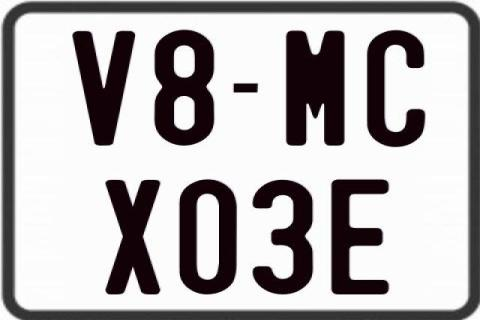0: (179, 178, 243, 298), (252, 180, 314, 299), (152, 27, 213, 145)
C: (368, 31, 431, 150)
E: (330, 179, 394, 297)
M: (284, 28, 344, 144)
V: (72, 30, 138, 150)
X: (107, 177, 161, 297)
